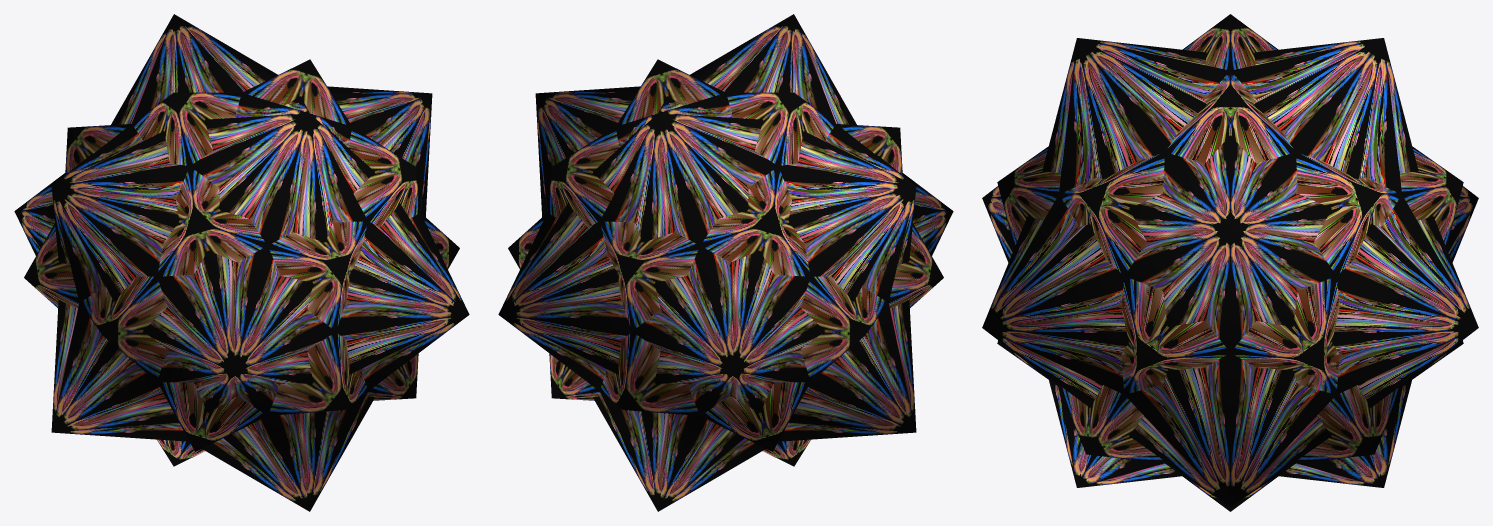
File: GreatDodecacronicHexecontahedron9.gltf
The picture shows the model from 3 angles, left to right: view 1: azimuth 30°, elevation 25°; view 2: azimuth 150°, elevation 25°; view 3: azimuth 270°, elevation 25°; orthographic projection. The views are drawn at different scales.
Parts seen in each view (by area): view 1: GreatDodecacronicHexecontahedron9; view 2: GreatDodecacronicHexecontahedron9; view 3: GreatDodecacronicHexecontahedron9.
Boxes of the visible parts, bbox=[...] form: GreatDodecacronicHexecontahedron9: bbox=[14, 14, 469, 511]; GreatDodecacronicHexecontahedron9: bbox=[498, 14, 953, 511]; GreatDodecacronicHexecontahedron9: bbox=[982, 14, 1478, 511].
Size of the model in its own units: 1.24 by 1.24 by 1.24.
1 material, 1 textured.
